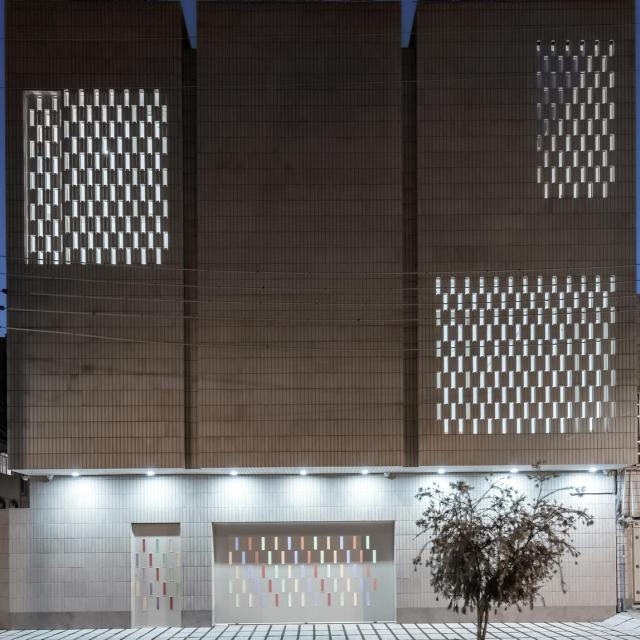plant: (410, 461, 582, 614)
wall: (4, 6, 637, 640)
